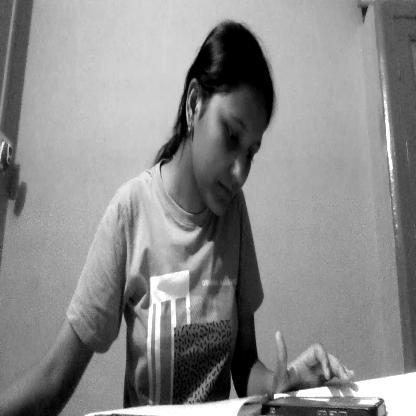Distracted: (177, 23, 284, 228)
